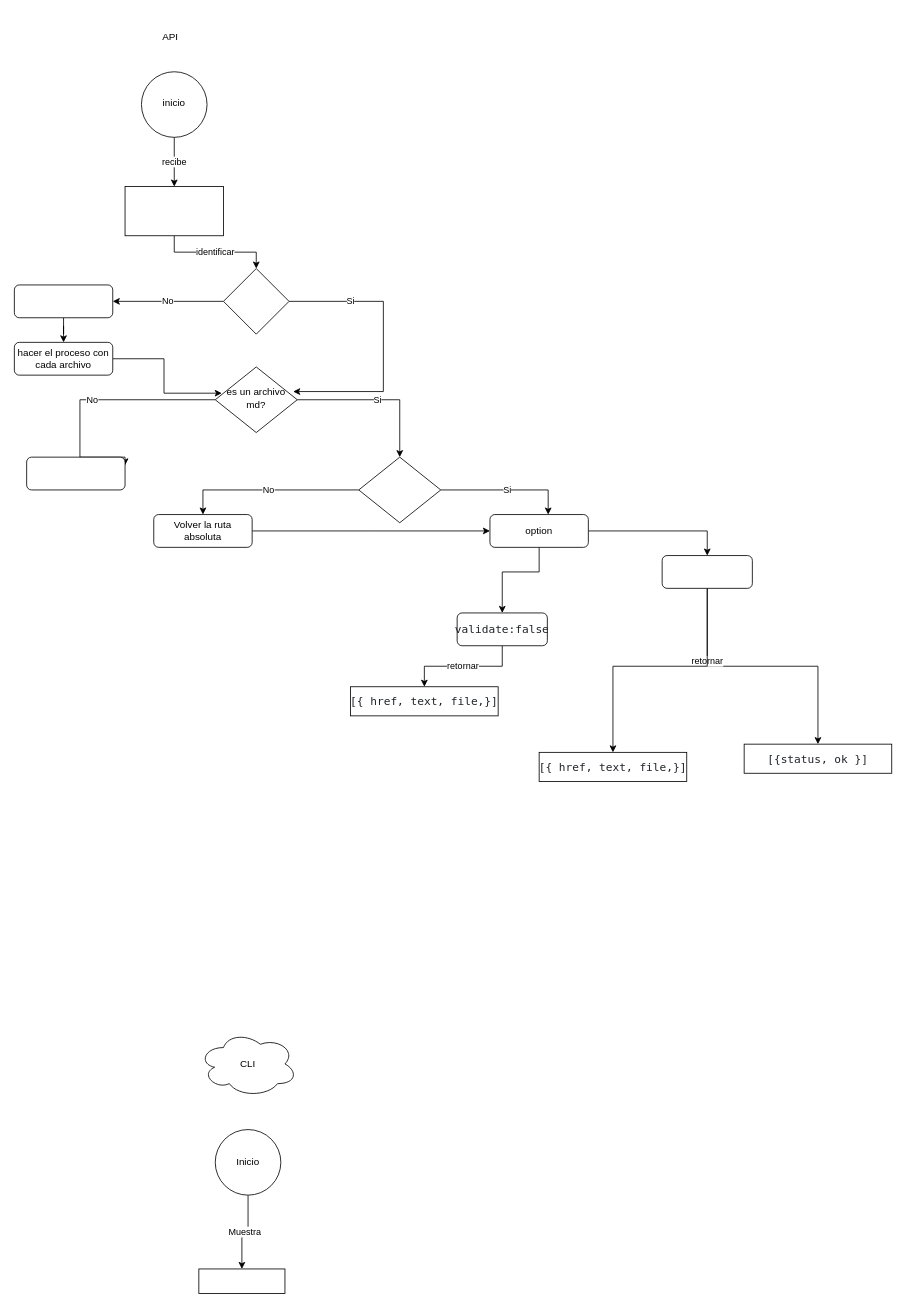
Image size: 909x1308. Some labels were removed from this diagram. Each missing label, with the centre of its shape:
"es un archivo?" goes at point (256, 301).
"Es un directorio/carpeta" goes at point (63, 301).
"la ruta es absoluta?" goes at point (399, 489).
"mdlink (path, option)" goes at point (173, 211).
"message.error" goes at point (75, 473).
"validate:true" goes at point (706, 571).
